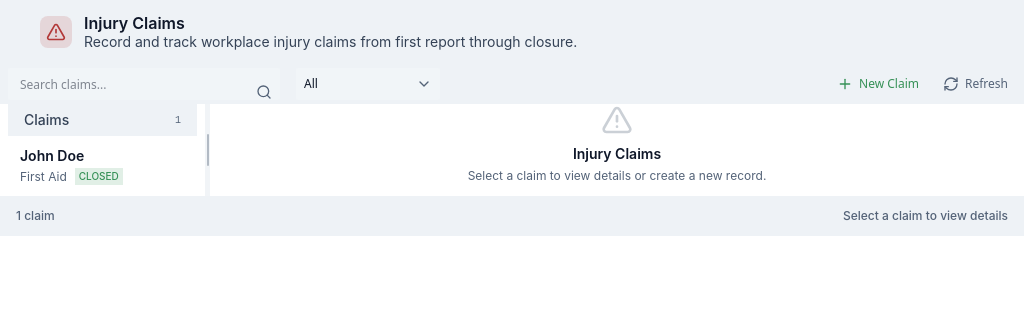
Scenario: SafetyInjuryClaimsPage - Close Claim › disables Close for CLOSED claim
What coordinates should you click on to do the following:
click the text "John Doe"
I would click on:
 (52, 156)
Its box is [20, 147, 84, 164].
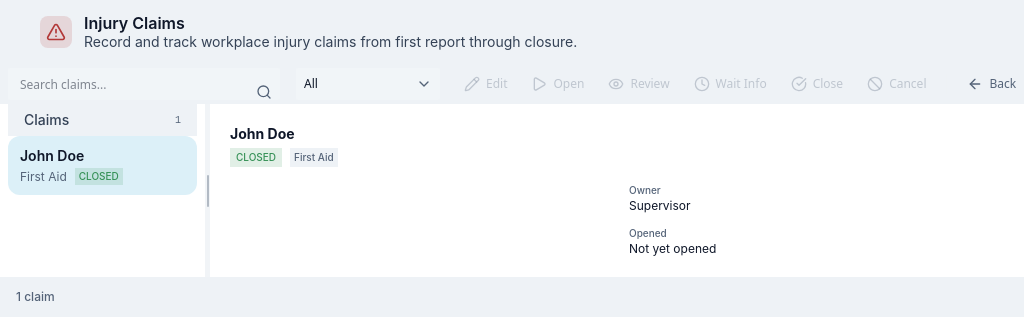
Expected: the button "Close" is disabled, [783, 68, 851, 100]
